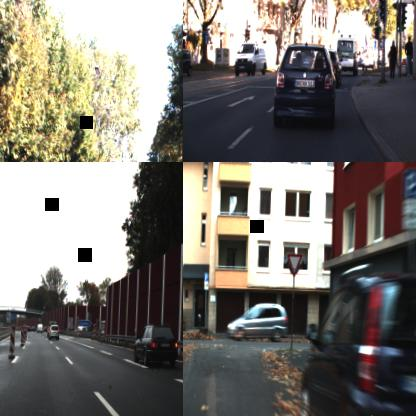give way: (286, 253, 302, 278)
priority road: (367, 0, 380, 8)
